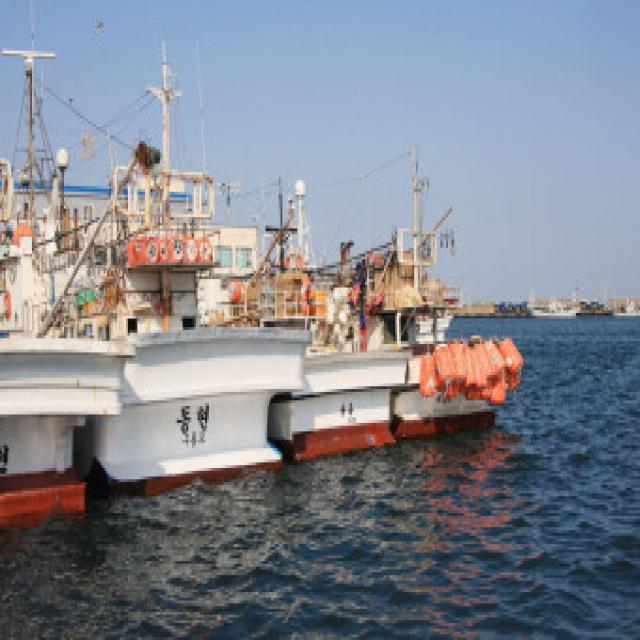Ship: (101, 35, 325, 517), (1, 32, 137, 551), (252, 173, 410, 489)
